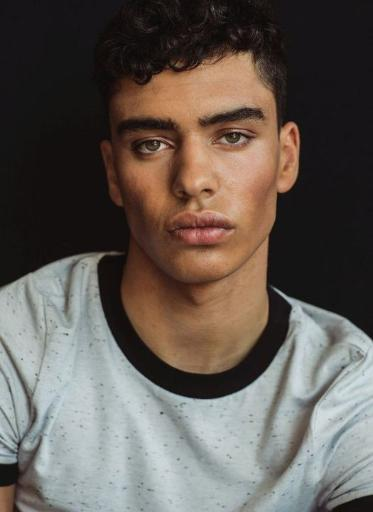left_eye: (213, 129, 258, 152)
left_lip_corner: (228, 220, 241, 237)
right_eye: (133, 139, 174, 159)
right_lip_corner: (164, 222, 176, 240)
